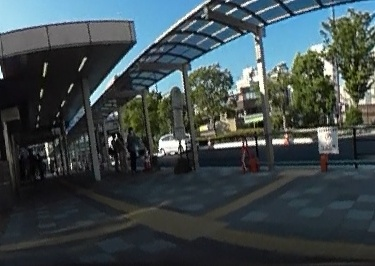person: (125, 125, 139, 169), (115, 127, 127, 166), (105, 133, 119, 164), (24, 148, 37, 179), (36, 149, 48, 179)
